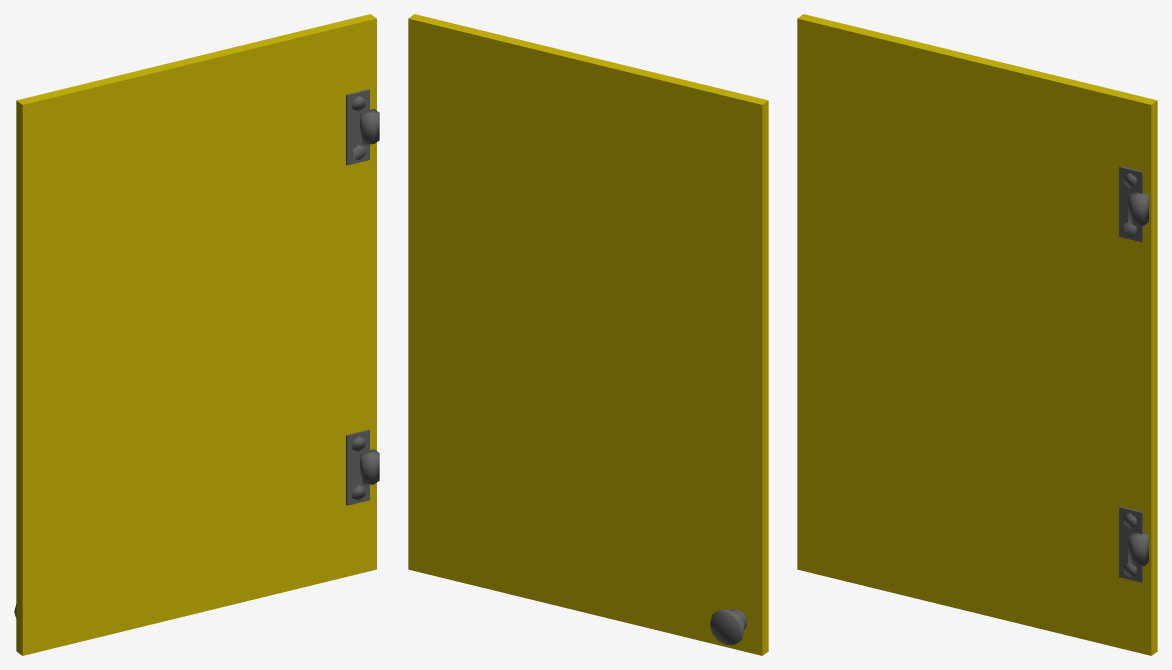
File: SNWP_MOD_BUN_Kitchen_cabinet_door_02.fbx
3 views of the same model, side by side, from view 1: azimuth 30°, elevation 25°; view 2: azimuth 150°, elevation 25°; view 3: azimuth 330°, elevation 25° (orthographic).
Parts seen in each view (by area): view 1: SNWP_MOD_Kitchen_cabinet_door_02; view 2: SNWP_MOD_Kitchen_cabinet_door_02; view 3: SNWP_MOD_Kitchen_cabinet_door_02.
Boxes of the visible parts, x1,y1,x2,y2 form: SNWP_MOD_Kitchen_cabinet_door_02: (14, 14, 379, 655); SNWP_MOD_Kitchen_cabinet_door_02: (408, 14, 768, 655); SNWP_MOD_Kitchen_cabinet_door_02: (797, 14, 1157, 655).
Bounding box in the file's own units: 0.4541 × 0.675 × 0.0568.
